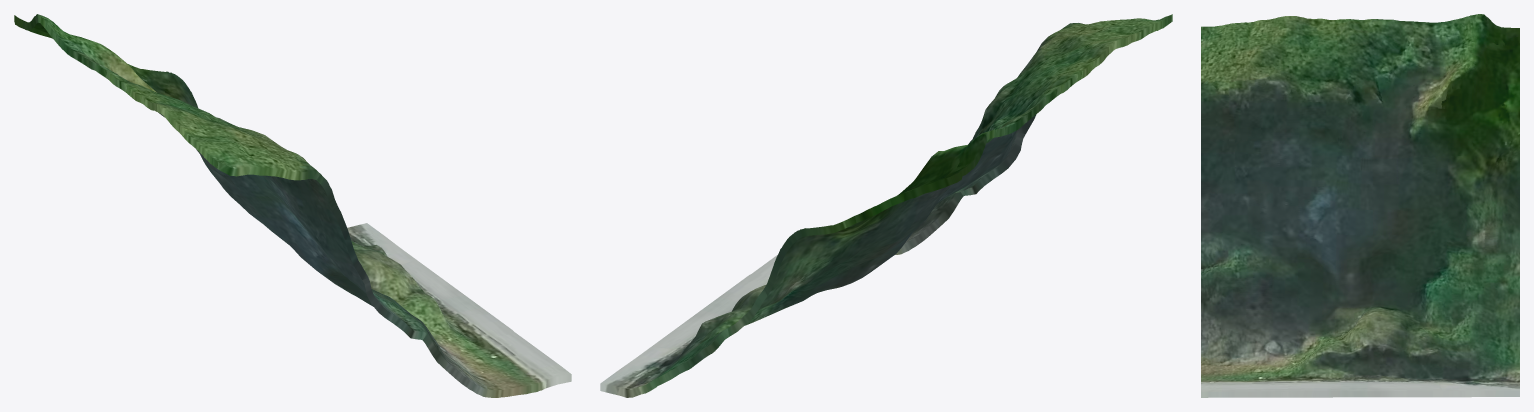
File: z20-167556-405171-h0-yup-uvflip-v3-world.glb
The picture shows the model from 3 angles, left to right: view 1: azimuth 30°, elevation 25°; view 2: azimuth 150°, elevation 25°; view 3: azimuth 270°, elevation 25°; orthographic projection. The views are drawn at different scales.
Size of the model in its own units: 30.16 by 26.4 by 30.32.
Materials: 1 (1 with a texture image).
